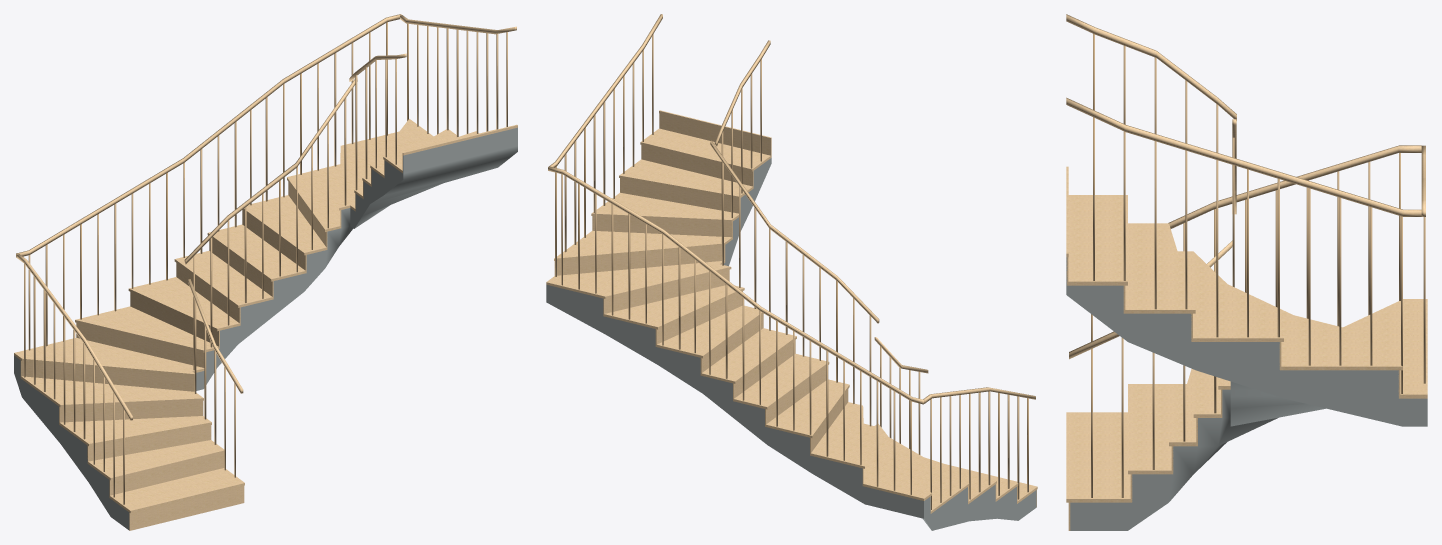
The model's file is staircase_u2h.obj.
3 views of the same model, side by side, from view 1: azimuth 30°, elevation 25°; view 2: azimuth 150°, elevation 25°; view 3: azimuth 270°, elevation 25° (orthographic). The views are drawn at different scales.
Visible parts, largest first — view 1: 22_22, 84_84, 12_12, 69_69, 55_55, 54_54, 4_4, 34_34, 7_7, 9_9, 31_31, 35_35 (+1 smaller); view 2: 22_22, 84_84, 12_12, 69_69, 55_55, 54_54, 4_4, 34_34, 31_31, 7_7, 9_9, 33_33; view 3: 22_22, 12_12, 54_54, 33_33, 55_55, 35_35, 9_9, 30_30, 7_7, 84_84, 32_32, 69_69 (+1 smaller).
Boxes of the visible parts, x1,y1,x2,y2 form: 22_22: (14,119,495,513); 84_84: (20,155,402,530); 12_12: (14,127,517,530); 69_69: (28,22,387,350); 55_55: (24,263,124,504); 54_54: (407,23,507,136); 4_4: (193,98,346,370); 34_34: (16,14,401,257); 7_7: (355,59,396,190); 9_9: (194,300,235,477); 31_31: (184,78,357,264); 35_35: (17,254,132,420); 22_22: (546,128,1037,513); 84_84: (554,113,1036,513); 12_12: (546,158,1036,530); 69_69: (561,174,911,494); 55_55: (930,391,1028,509); 54_54: (555,34,653,276); 4_4: (722,162,871,426); 34_34: (548,166,924,404); 31_31: (710,140,879,323); 7_7: (721,59,761,242); 9_9: (880,346,920,454); 33_33: (549,14,662,167); 22_22: (1066,195,1427,502); 12_12: (1066,257,1427,530); 54_54: (1093,117,1402,393); 33_33: (1066,97,1421,216); 55_55: (1091,153,1400,341); 35_35: (1168,145,1421,228); 9_9: (1091,262,1216,497); 30_30: (1066,14,1236,120); 7_7: (1093,34,1218,152); 84_84: (1066,257,1400,530); 32_32: (1069,240,1232,359); 69_69: (1423,217,1425,383).
Bounding box in the file's own units: 338 × 342 × 176.
